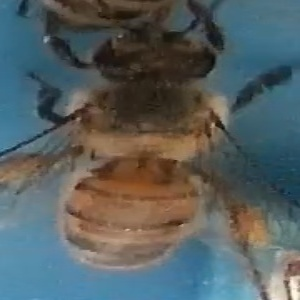bee: (32, 29, 287, 270)
